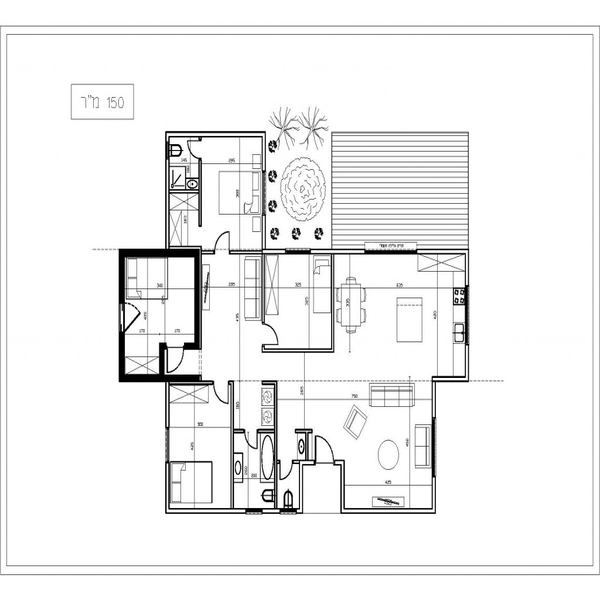door: (312, 434, 337, 466), (163, 343, 187, 376), (256, 319, 285, 345), (187, 136, 211, 162), (213, 229, 234, 256), (211, 383, 231, 407), (275, 460, 293, 484), (241, 432, 261, 451)
room: (332, 247, 470, 385), (165, 127, 265, 255), (340, 382, 435, 514), (116, 244, 203, 388), (163, 378, 235, 512), (260, 253, 337, 353), (230, 381, 278, 514)
wall: (117, 256, 127, 380), (118, 247, 199, 261), (193, 255, 205, 349), (127, 372, 200, 387), (156, 338, 168, 377), (198, 159, 204, 228)
